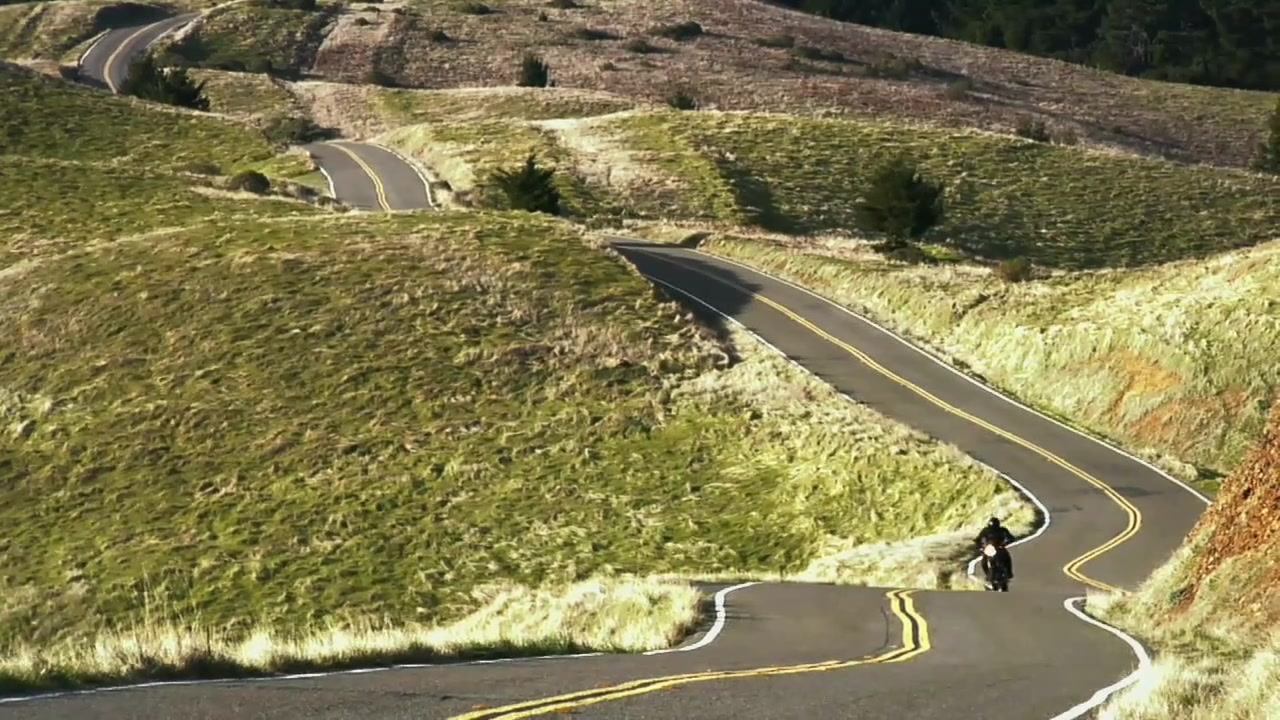motorbike: (971, 539, 1024, 595)
